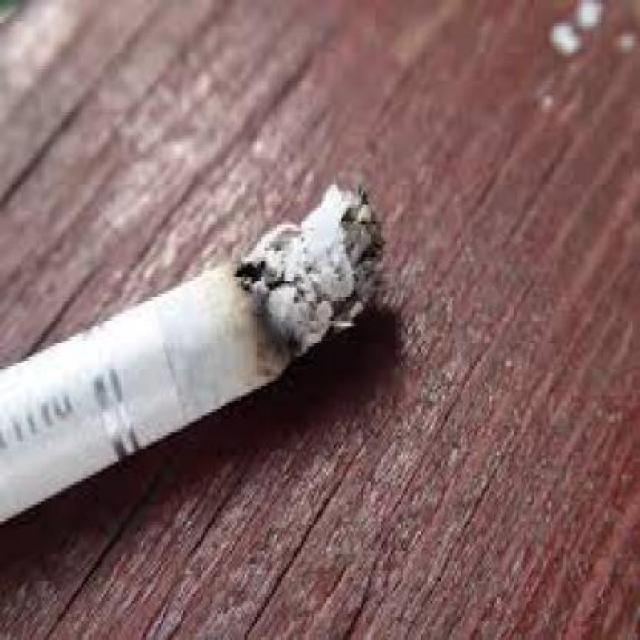cigarette: (0, 182, 508, 526)
